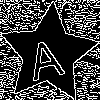A: (23, 29, 66, 81)
